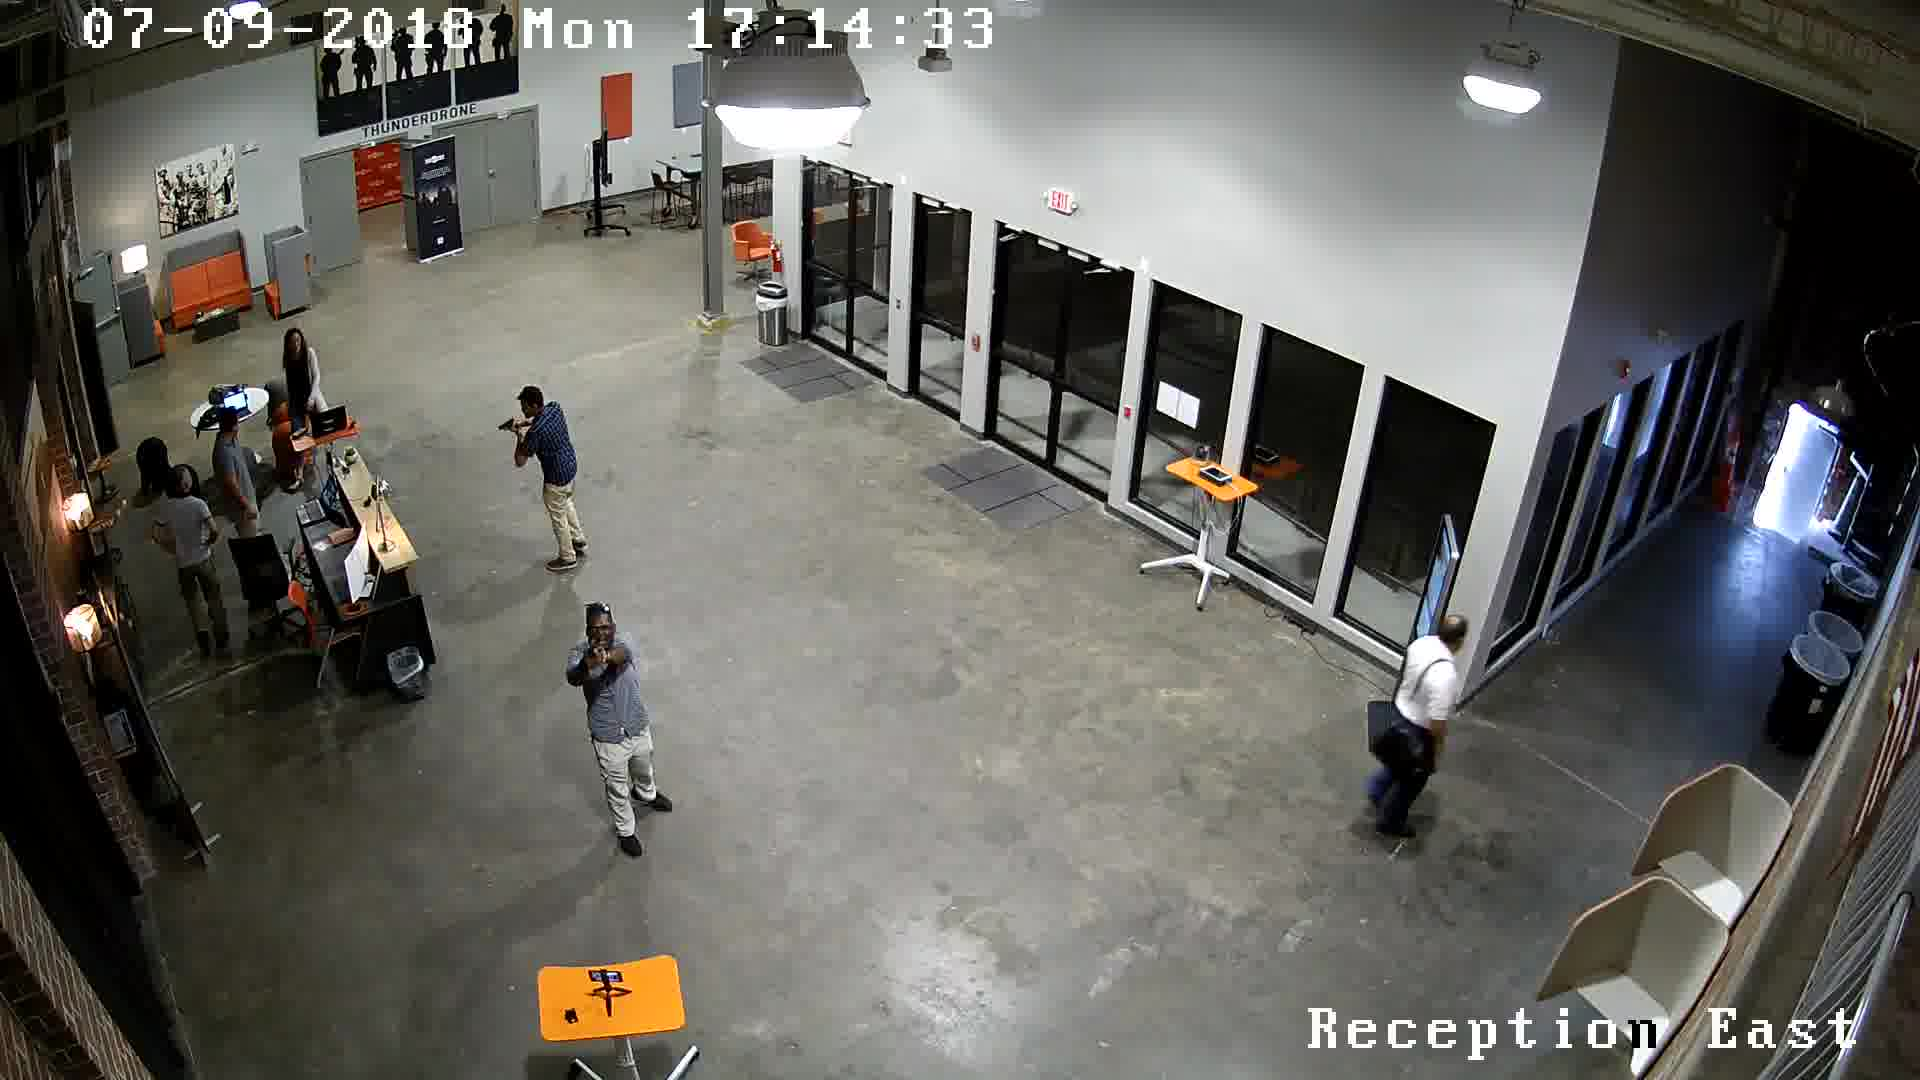pistol: (570, 630, 616, 684), (487, 411, 531, 444)
